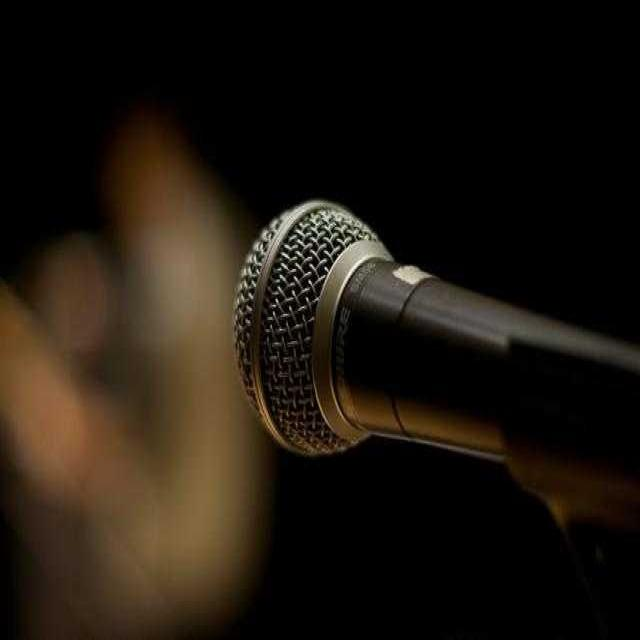microphone: (226, 205, 638, 495)
